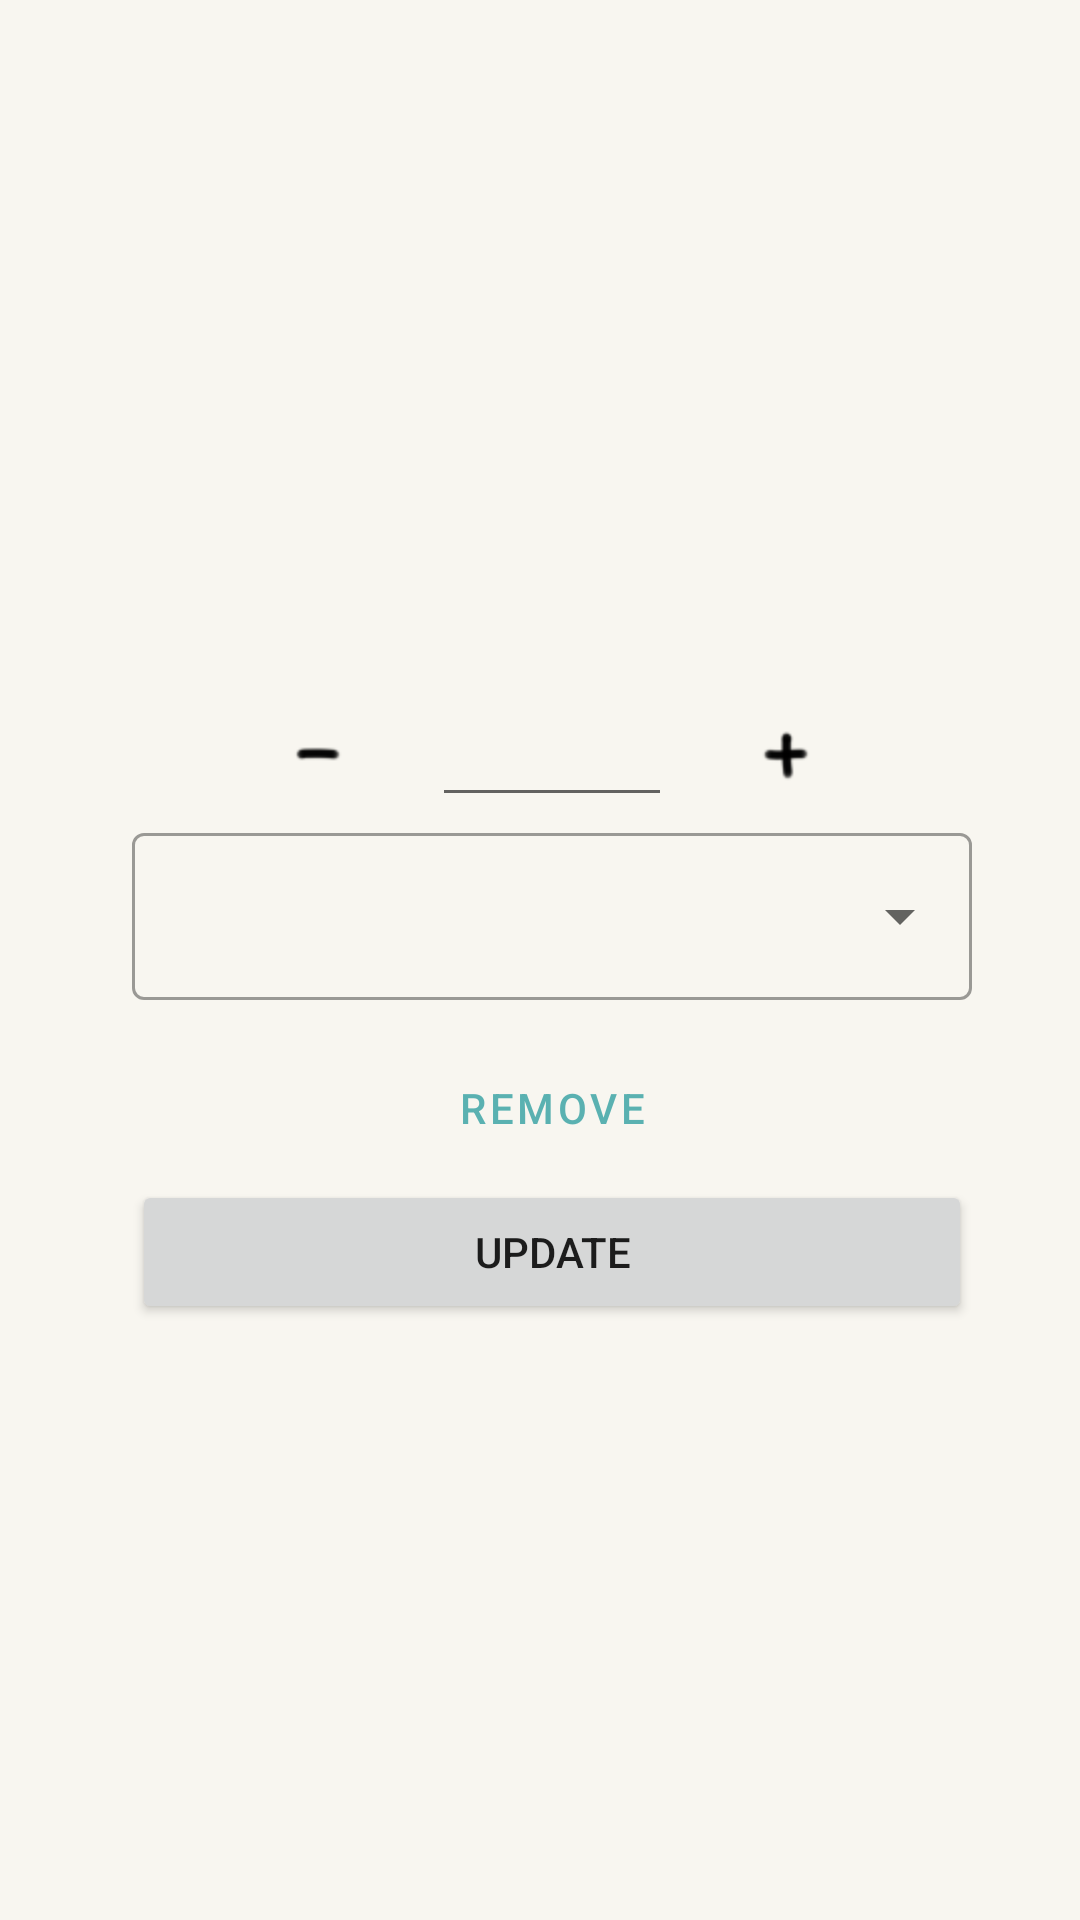

Icons on this 1080 x 1920 Android screen, each with the point to tap as (x,y):
add: (786,755)
minus: (318,753)
